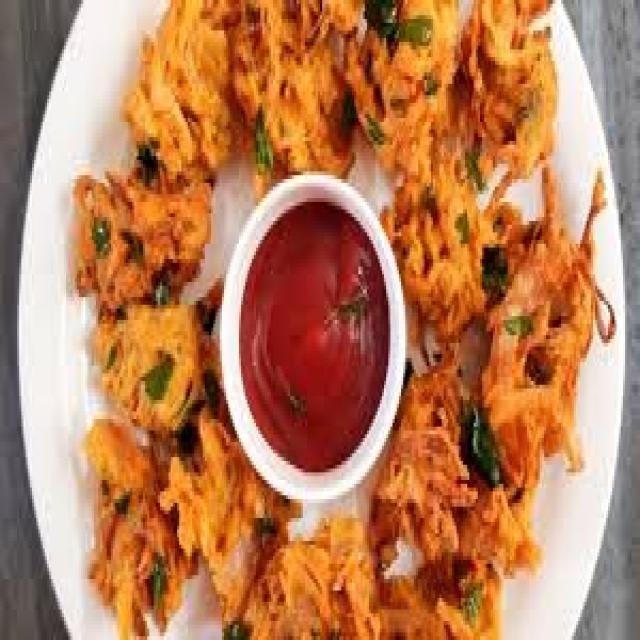BAJI: (70, 0, 595, 636)
